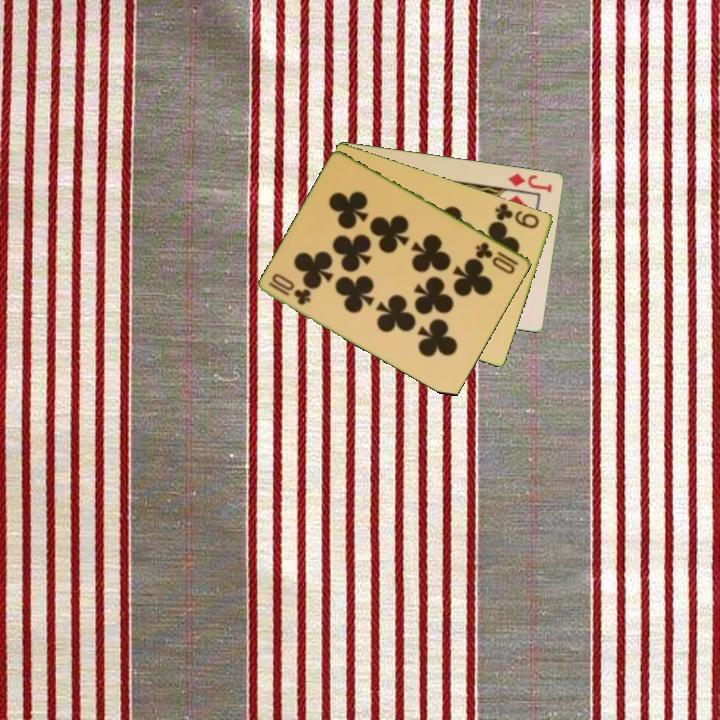10c: (472, 238, 522, 277), (265, 278, 314, 308)
9c: (492, 199, 542, 231)
Jd: (504, 169, 555, 195)
